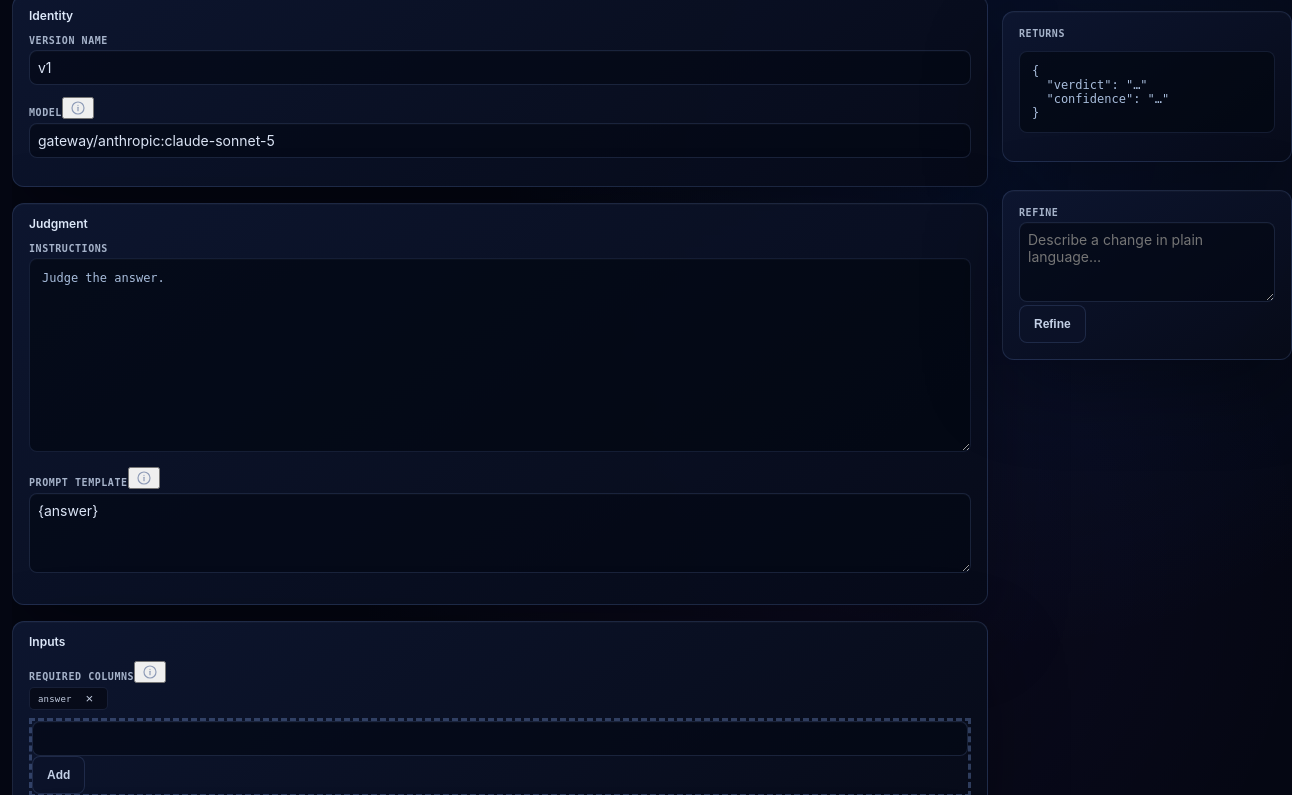
Scenario: VersionEditor: form footer › surfaces a blocker and disables Save when a field is invalid
The width and height of the screenshot is (1292, 795).
Step 1. Clear the field labelled "Version name" → {"x": 500, "y": 68}, box [29, 50, 971, 85]
(page scrolled)
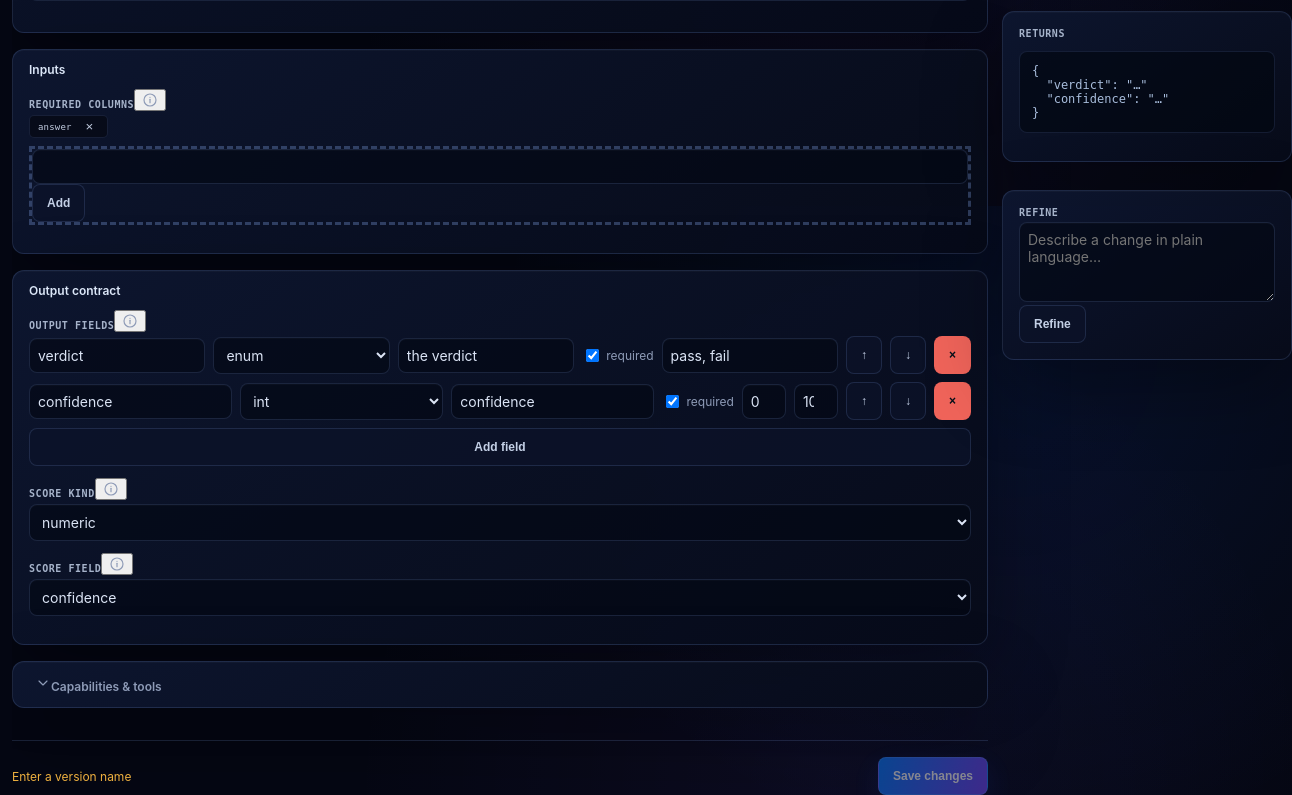
Result: the button "Save changes" is disabled at [878, 757, 988, 794]
